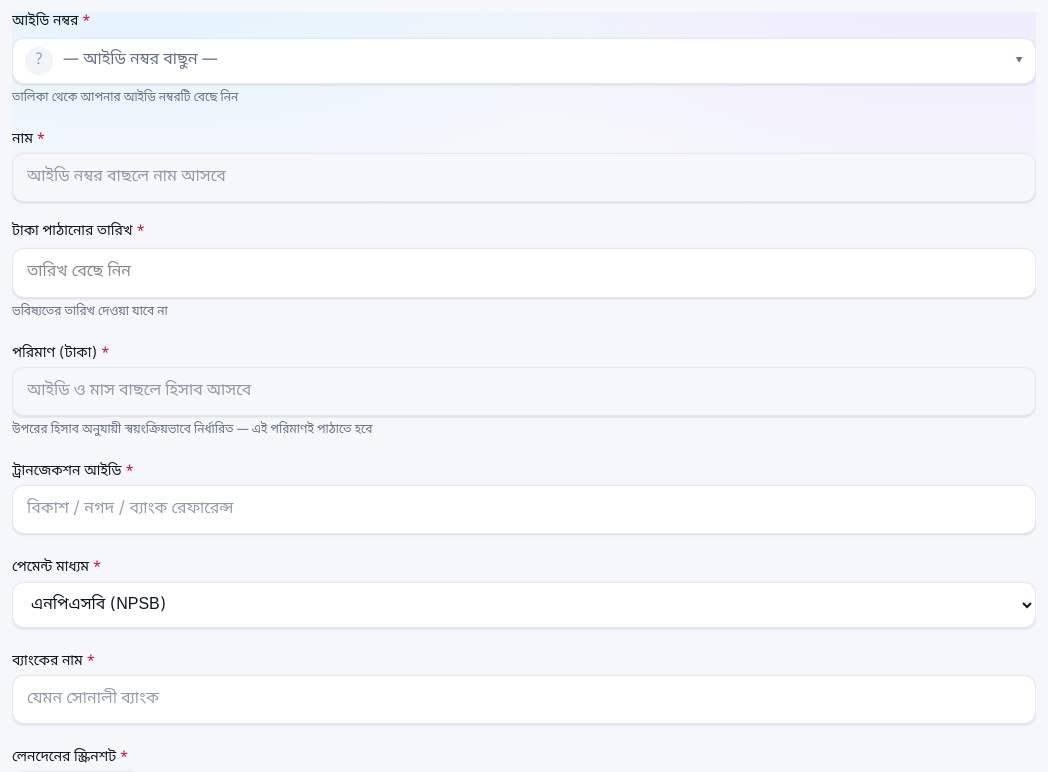
Test: public submission form — ID selector › still fills the name from the dropdown when the lookup fails
This screenshot has width=1048, height=772.
Click the dropdown labelled "? — আইডি নম্বর বাছুন — ▾" at (140, 60), box [12,38,1036,84]
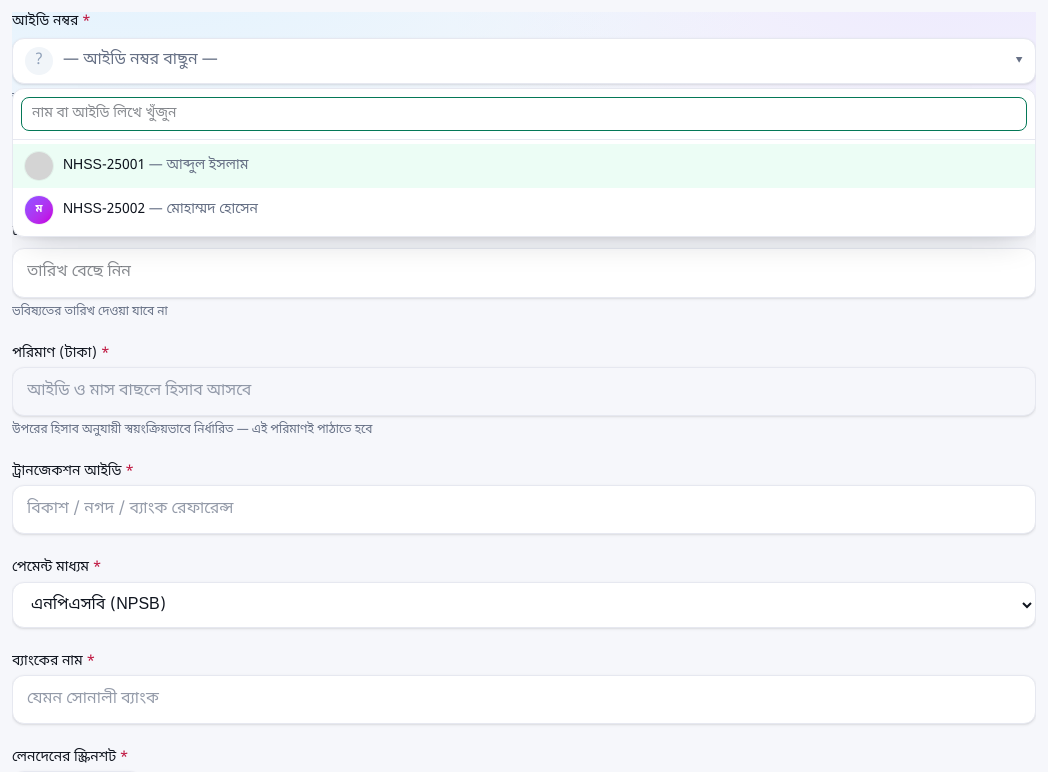
Click the option "ম NHSS-25002 — মোহাম্মদ হোসেন" at (142, 210), box [25,196,258,224]
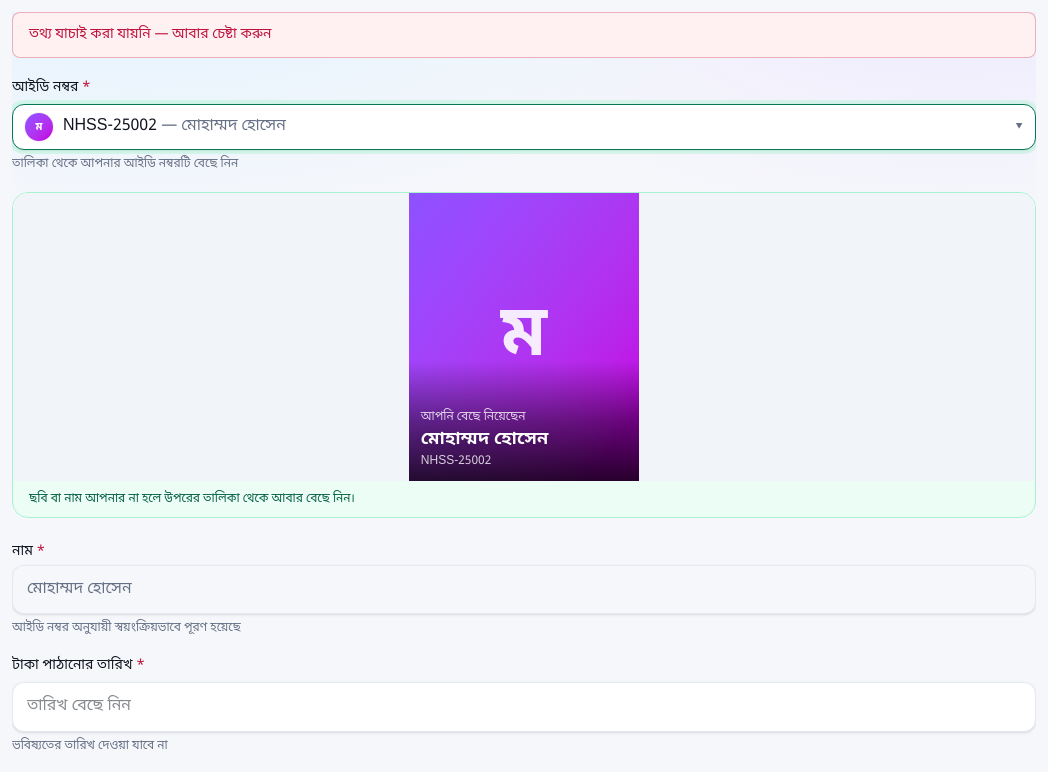
Expected: the field labelled "নাম *" holds "মোহাম্মদ হোসেন", [12,565,1036,614]
